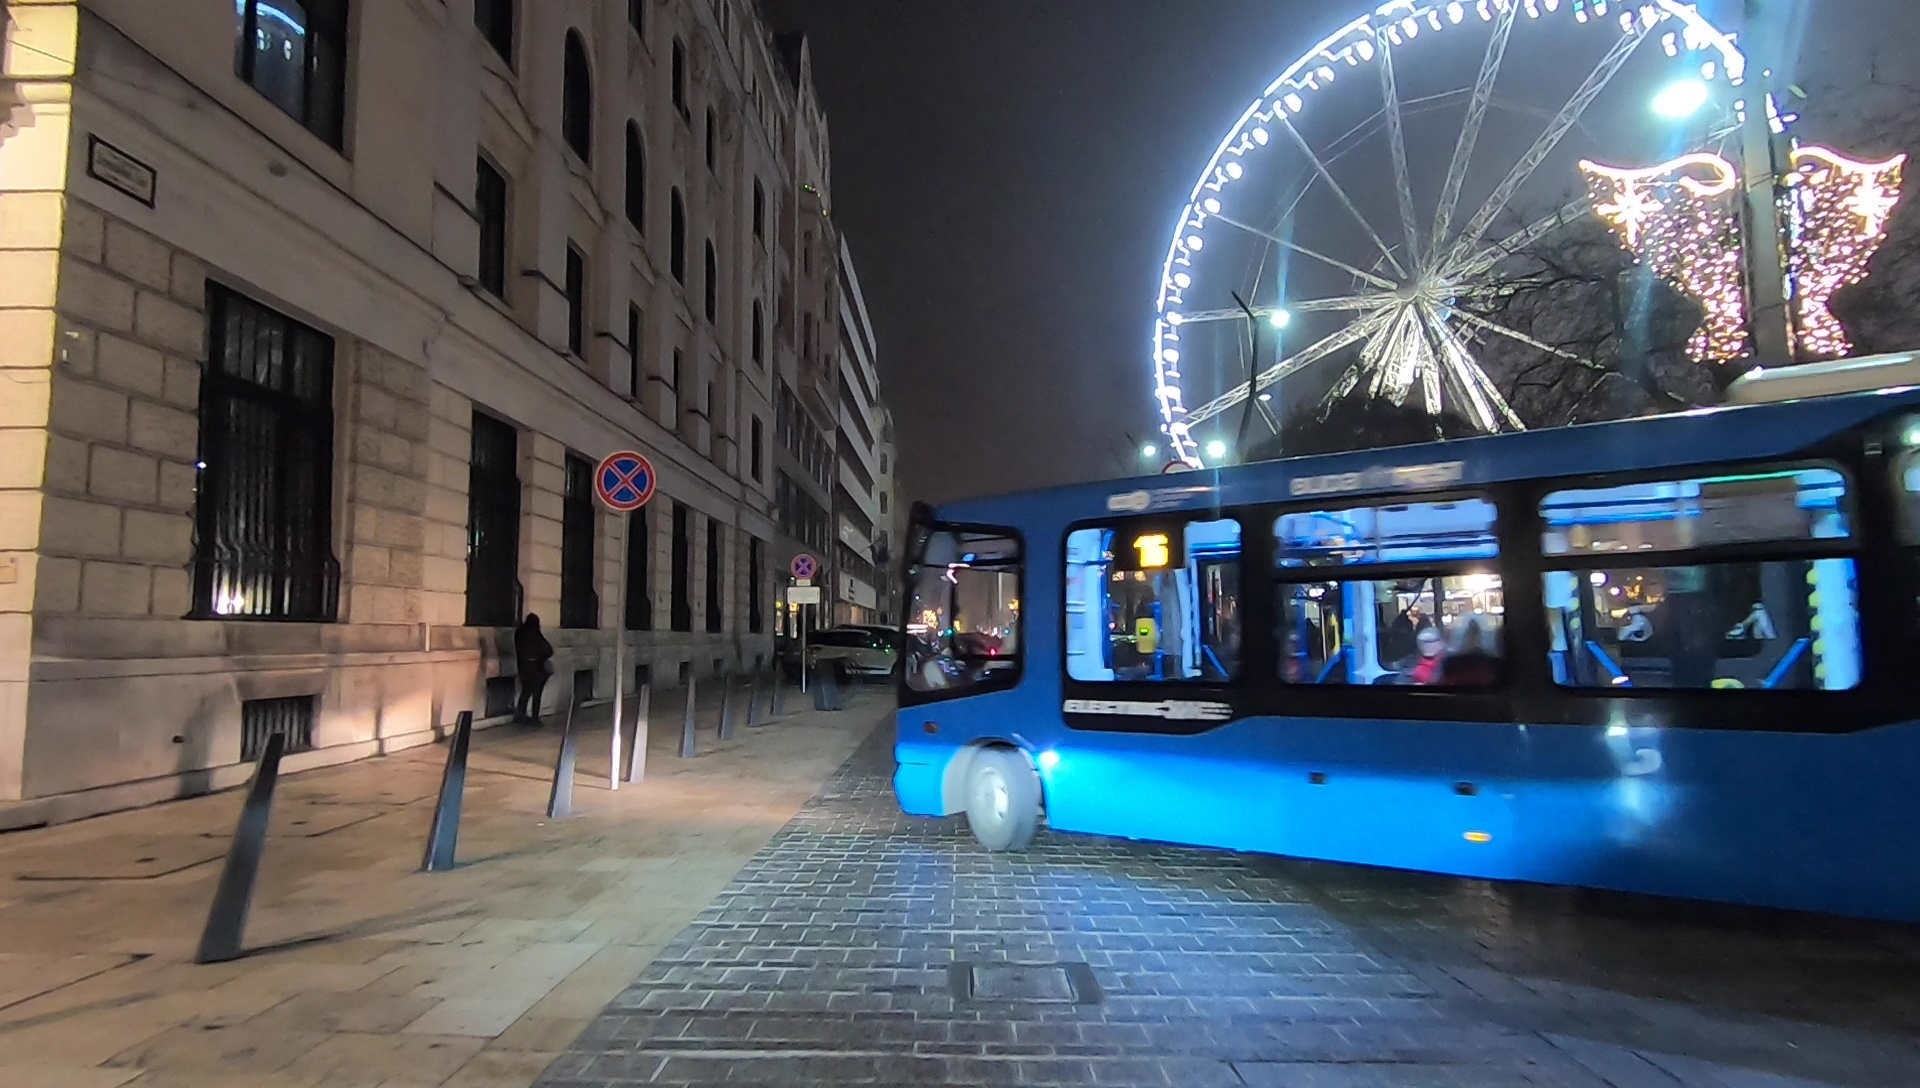person: (514, 611, 551, 723)
